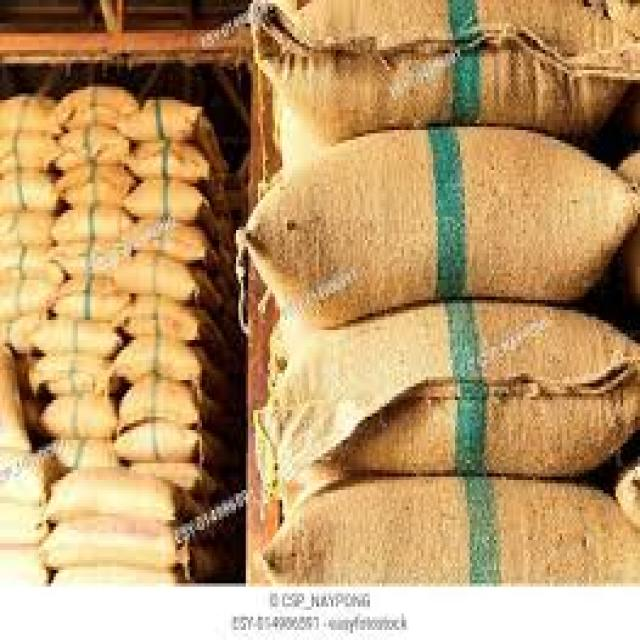sack: (246, 125, 639, 317), (275, 300, 640, 481), (258, 0, 637, 133), (263, 477, 640, 588), (43, 516, 183, 572), (44, 478, 176, 526), (118, 378, 203, 431), (113, 335, 202, 384), (115, 252, 196, 304), (115, 297, 199, 346), (126, 142, 208, 190), (128, 219, 210, 265), (27, 319, 128, 356), (53, 273, 131, 320), (31, 352, 118, 394), (57, 162, 132, 208), (39, 396, 121, 438), (125, 182, 203, 226), (54, 85, 137, 126), (116, 423, 198, 463), (117, 99, 201, 137), (52, 204, 133, 242), (56, 127, 128, 167), (55, 239, 131, 276), (0, 242, 65, 284), (0, 169, 62, 210), (0, 96, 64, 134), (0, 130, 58, 170), (0, 277, 56, 313), (0, 210, 54, 244)
